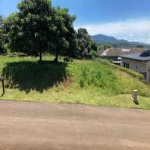Forest: (6, 1, 95, 58)
Road: (1, 92, 147, 150)
Uncultivated: (66, 59, 132, 100)
